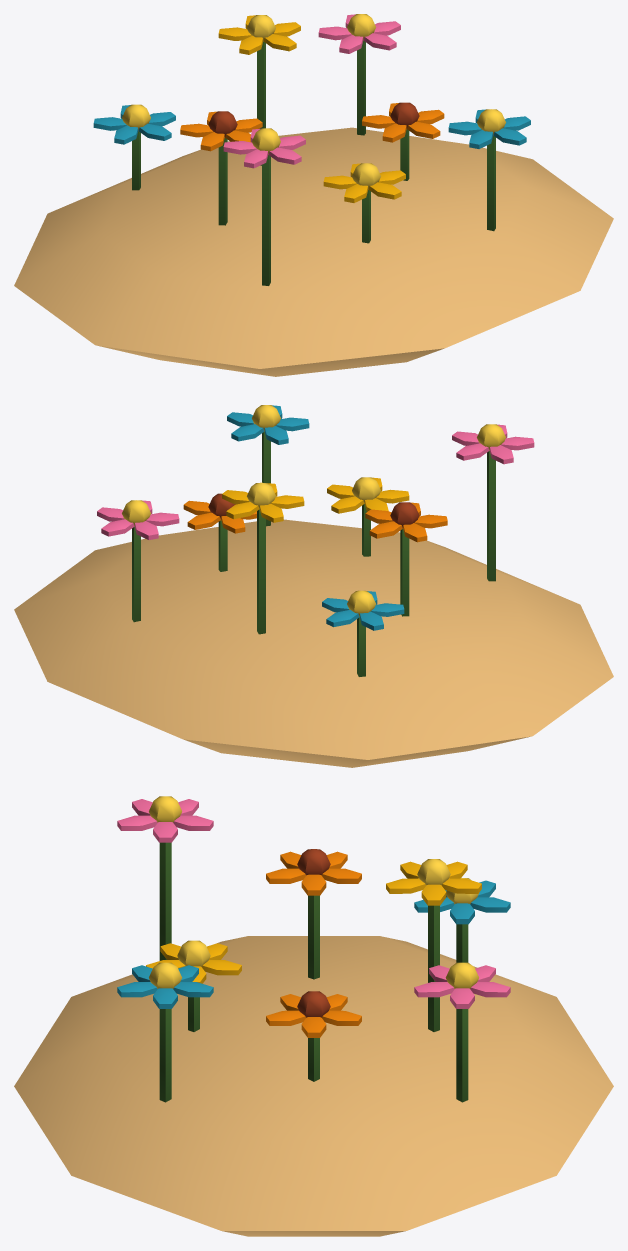
File: W5_DesertFlowers.fbx
3 renders of one model, top to bottom at view 1: azimuth 30°, elevation 25°; view 2: azimuth 150°, elevation 25°; view 3: azimuth 270°, elevation 25°, orthographic. The views are drawn at different scales.
Parts seen in each view (by area): view 1: W5_DesertFlowers; view 2: W5_DesertFlowers; view 3: W5_DesertFlowers.
Part boxes in pixels (x1,y1,x2,y2): W5_DesertFlowers: (14,14,613,376); W5_DesertFlowers: (14,405,613,767); W5_DesertFlowers: (14,796,613,1236).
Size of the model in its own units: 2.28 by 1.09 by 2.
